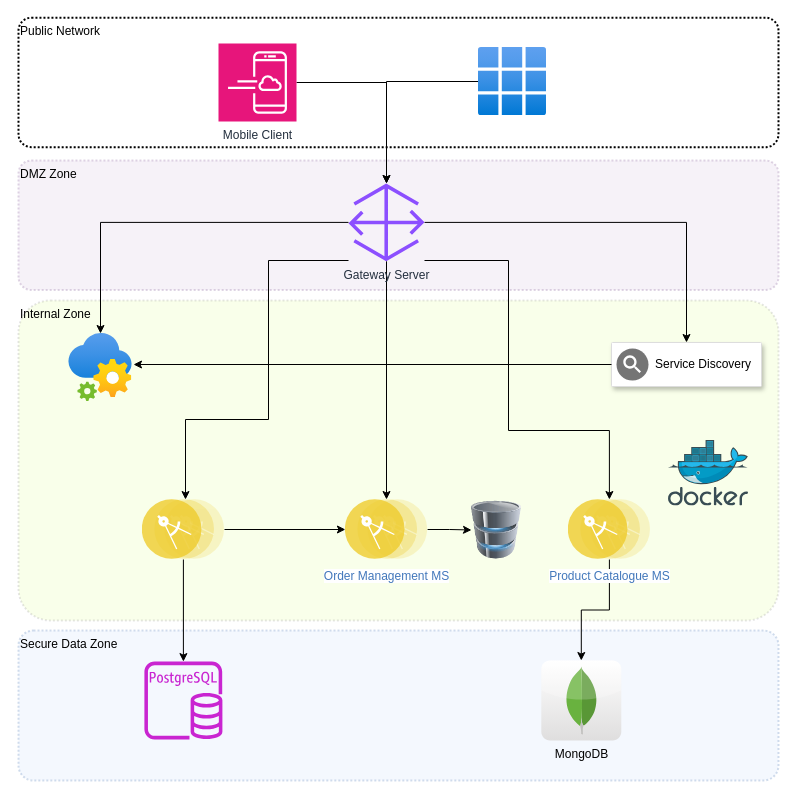
This 796x799 diagram has some shape labels left out. Here are the shapes that lost their labels. From the top down, the centre of each, then its label:
At (x=512, y=81): "Web Client".
At (x=100, y=367): "Configuration Server".
At (x=687, y=366): "Eureka Server".
At (x=183, y=529): "User Profile MS".
At (x=496, y=529): "H2 Database".
